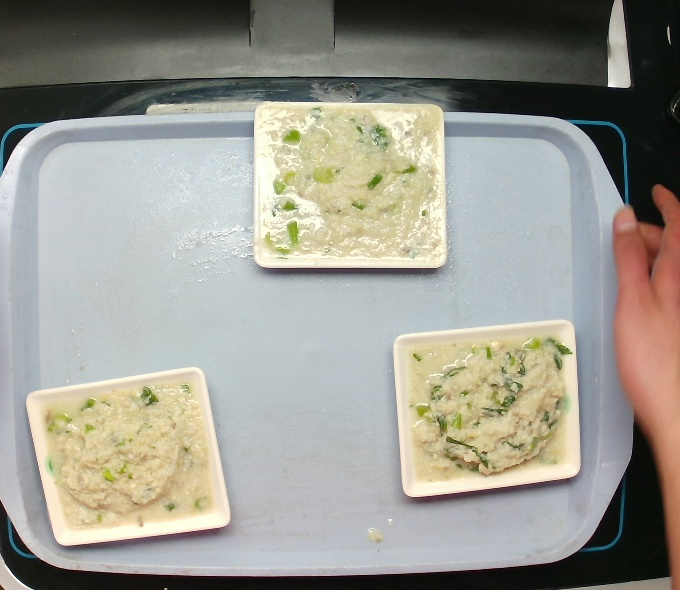wcq-QinCaiDouFuZha: (249, 98, 450, 273), (30, 383, 218, 535), (408, 336, 570, 487)
